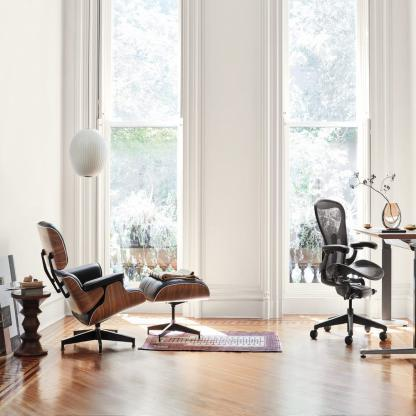chair: (37, 208, 147, 359), (303, 184, 388, 363), (137, 267, 207, 344)
table: (355, 217, 416, 372), (10, 279, 54, 360)
